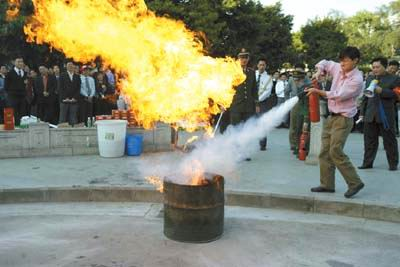fire: (2, 1, 242, 138)
